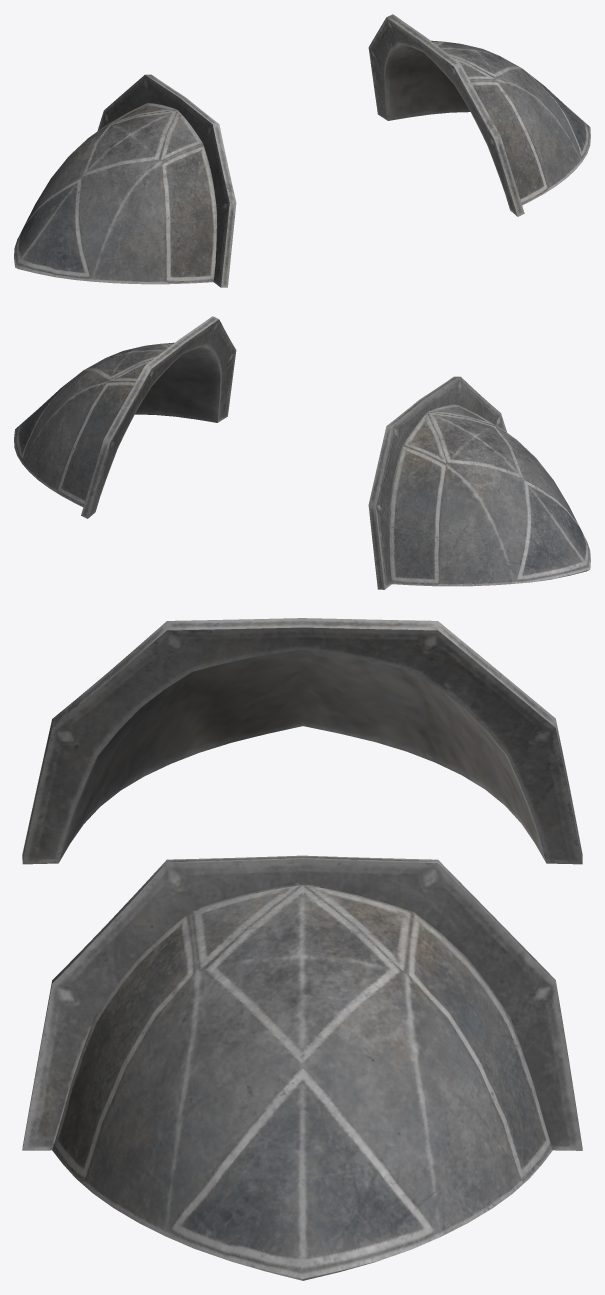
Rendered from sk_dwarf_erebor_pauldron_plate_med_b.fbx.
3 renders of one model, top to bottom at view 1: azimuth 30°, elevation 25°; view 2: azimuth 150°, elevation 25°; view 3: azimuth 270°, elevation 25°, orthographic. The views are drawn at different scales.
Visible parts, largest first — view 1: sk_dwarf_erebor_pauldron_plate_med_b; view 2: sk_dwarf_erebor_pauldron_plate_med_b; view 3: sk_dwarf_erebor_pauldron_plate_med_b.
Part boxes in pixels (bbox=[...]): sk_dwarf_erebor_pauldron_plate_med_b: bbox=[14, 14, 590, 287]; sk_dwarf_erebor_pauldron_plate_med_b: bbox=[14, 316, 590, 589]; sk_dwarf_erebor_pauldron_plate_med_b: bbox=[22, 618, 582, 1280].
Bounding box in the file's own units: 0.7229 × 0.3048 × 0.1608.
1 material, 1 textured.
